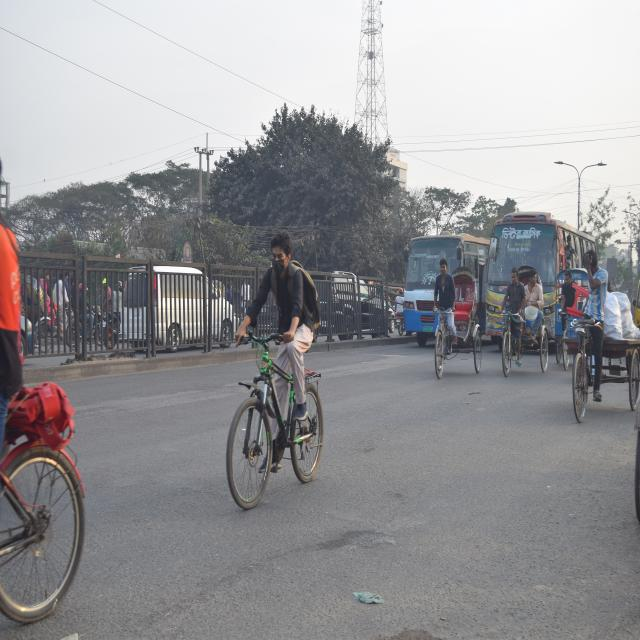bus: (484, 209, 586, 352), (393, 230, 485, 342)
